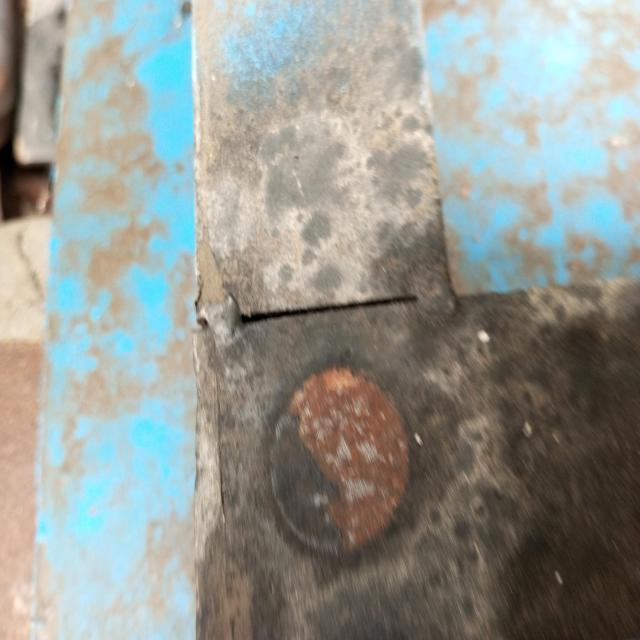Crack: (235, 290, 419, 327)
